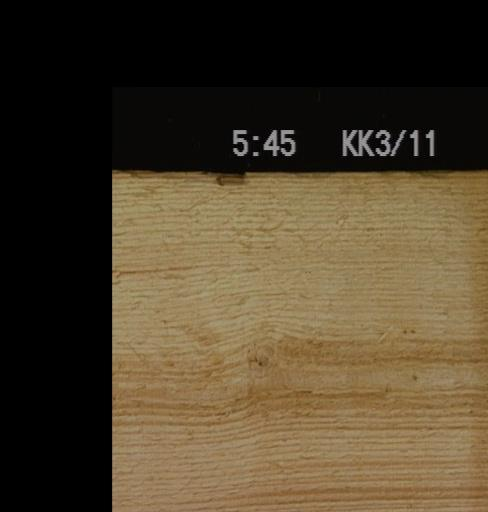wave: (112, 168, 248, 179)
